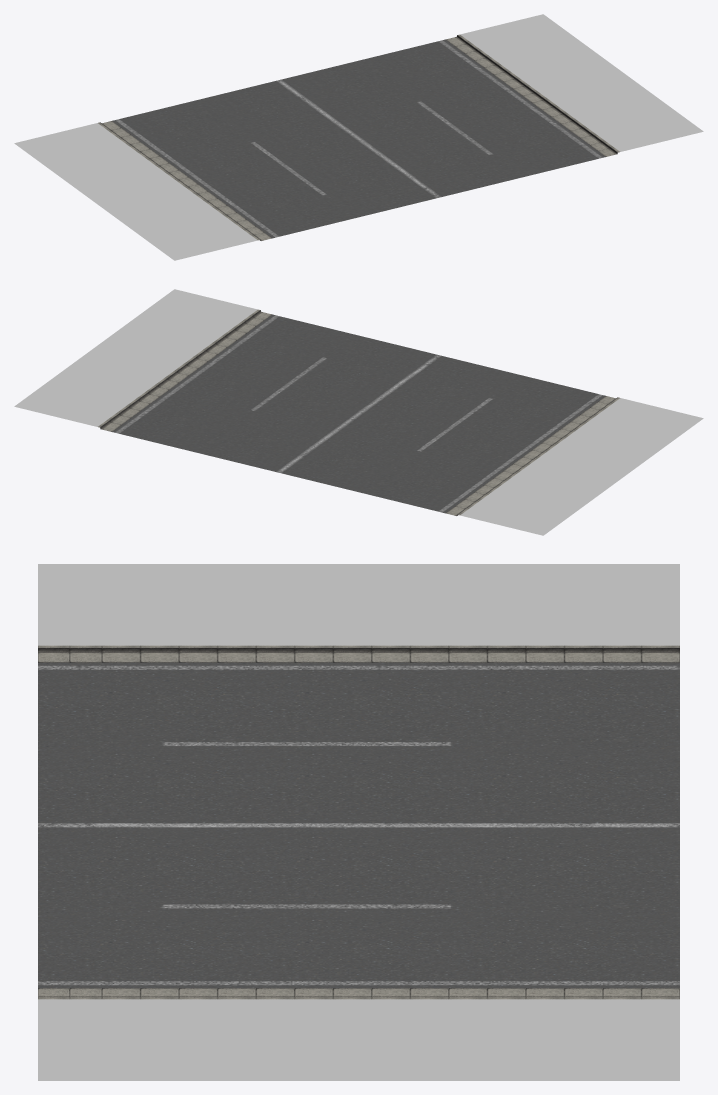
The model's file is 4syasen10m_TeishiMae.FBX.
3 views of the same model, one above another, from view 1: azimuth 30°, elevation 25°; view 2: azimuth 150°, elevation 25°; view 3: azimuth 270°, elevation 25° (orthographic). The views are drawn at different scales.
Parts seen in each view (by area): view 1: 4syasen_TeishiMae; view 2: 4syasen_TeishiMae; view 3: 4syasen_TeishiMae.
Part boxes in pixels (bbox=[...]): 4syasen_TeishiMae: bbox=[14, 14, 703, 260]; 4syasen_TeishiMae: bbox=[14, 289, 703, 535]; 4syasen_TeishiMae: bbox=[38, 564, 679, 1080].
Bounding box in the file's own units: 1903 × 5 × 1000.
